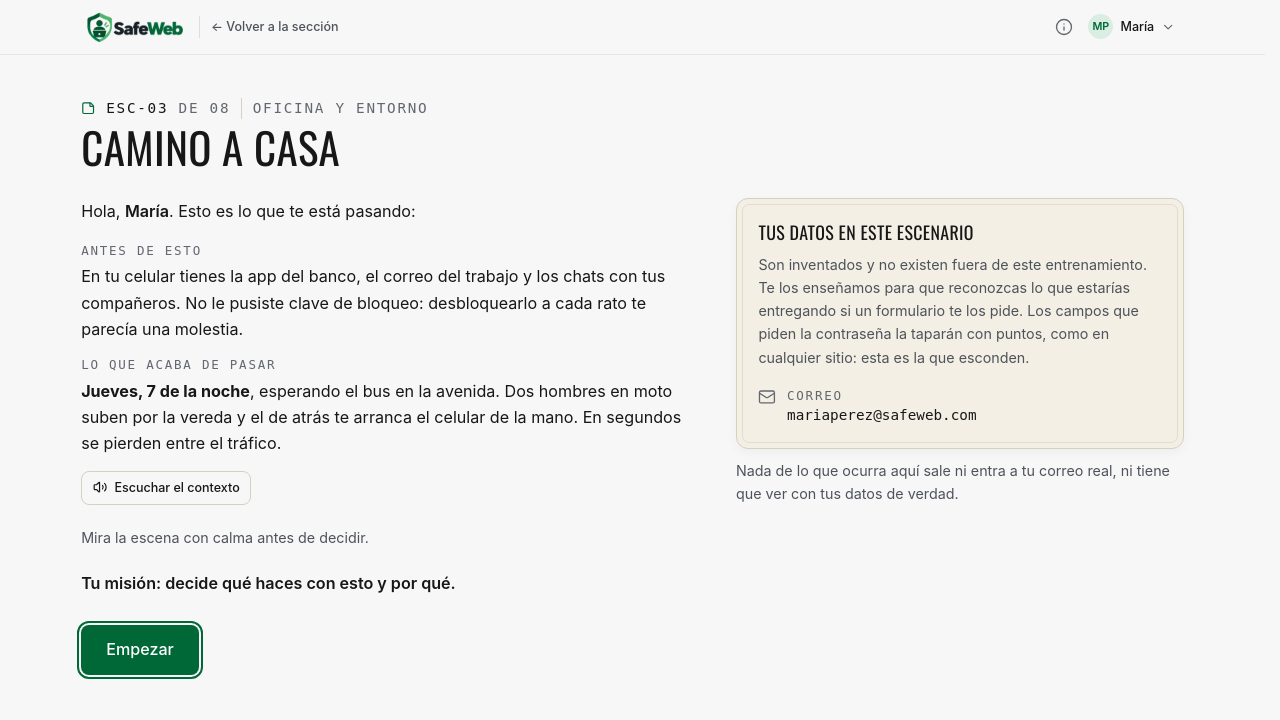
it: CableComprometido › abre justo después del robo con las opciones a la vista
Click the button "Empezar" at (140, 650), box [81,625,199,675]
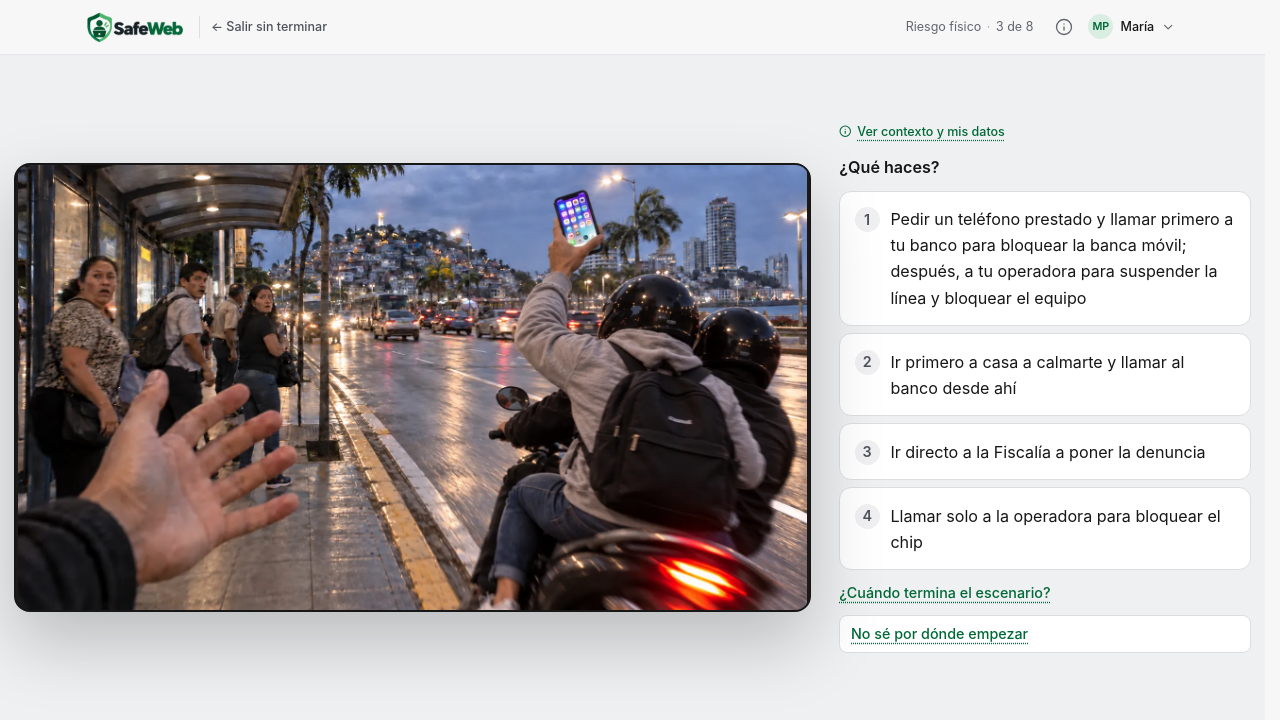
Check: the picture with alt text "levanta tu celular" is shown, box [18,165,807,610]
Check: the button "llamar primero a tu banco" is shown, box [839,191,1251,326]
